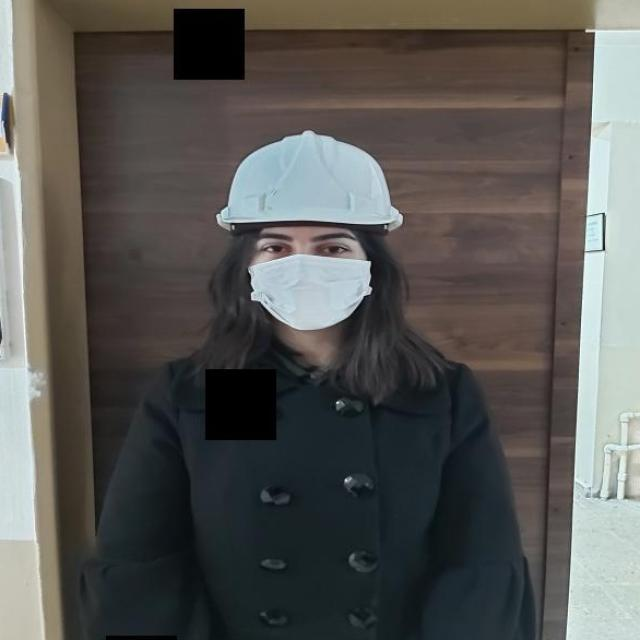helmet: (215, 129, 404, 234)
